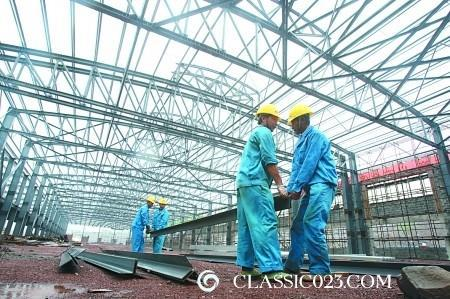helmet: (286, 103, 313, 130), (253, 103, 281, 129), (156, 196, 169, 211), (145, 193, 156, 209)
